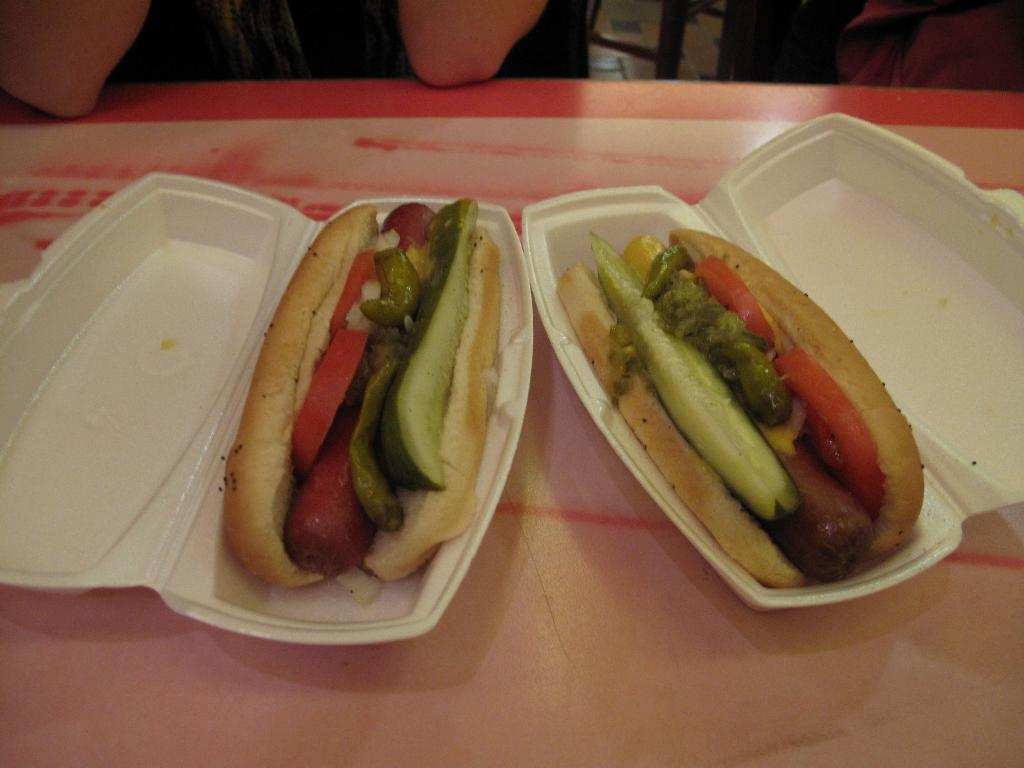hot_dog: (558, 225, 927, 589), (212, 196, 504, 600)
